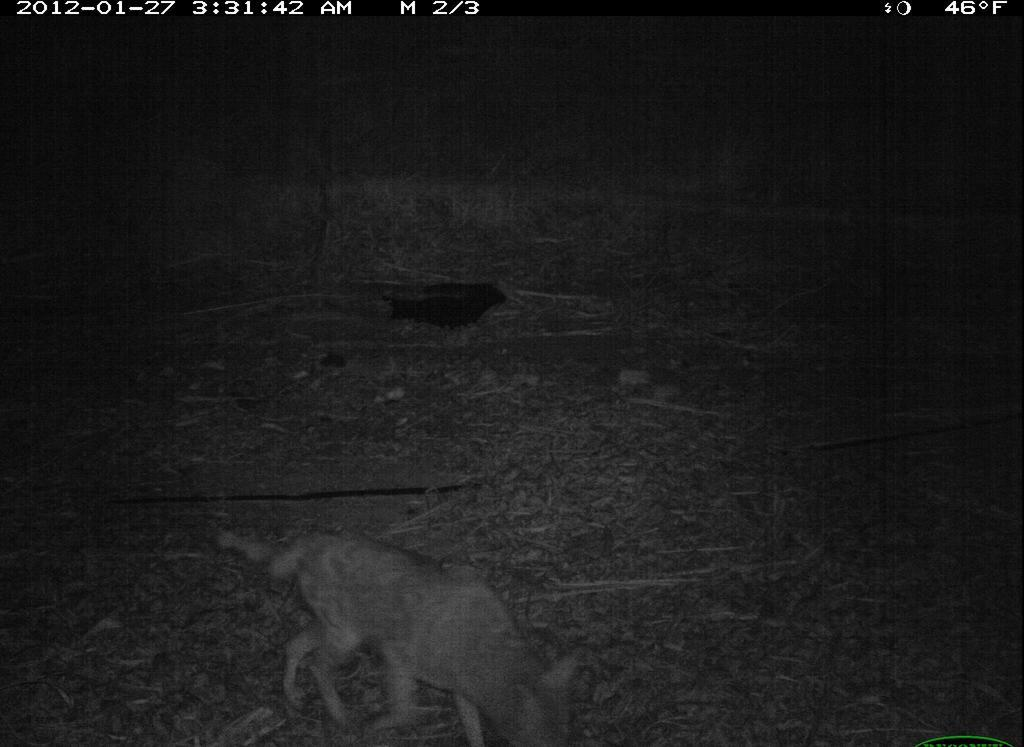coyote: (204, 502, 596, 744)
